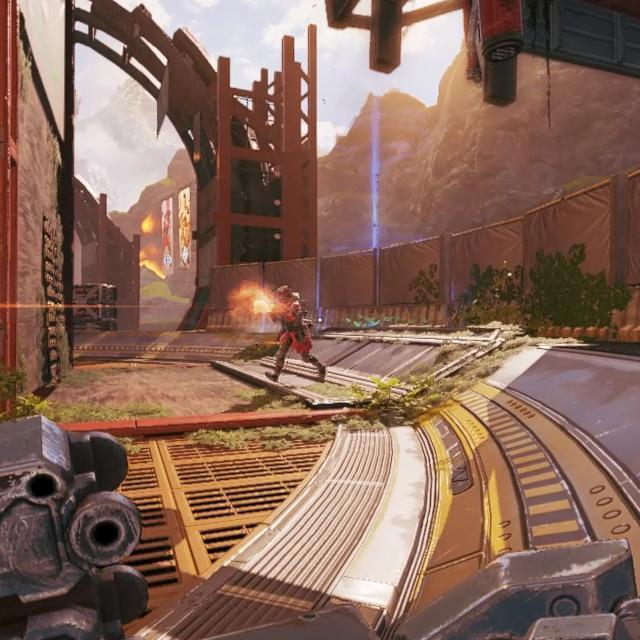avatar: (263, 282, 315, 384)
